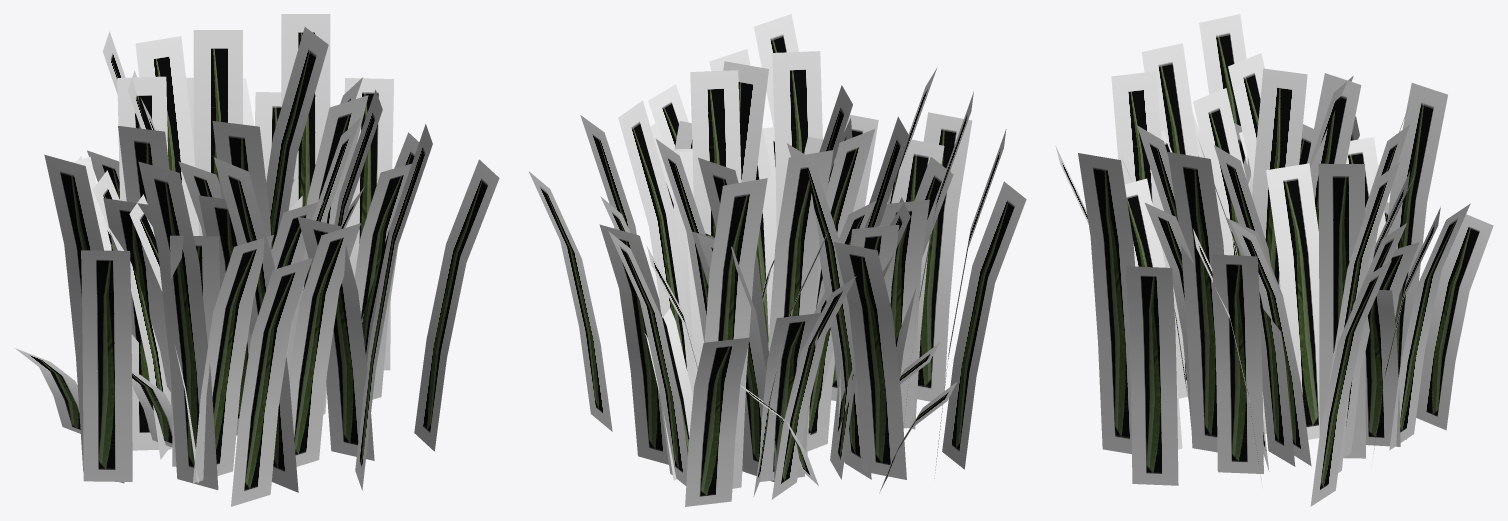
The model's file is Grass.obj.
3 renders of one model, left to right at view 1: azimuth 30°, elevation 25°; view 2: azimuth 150°, elevation 25°; view 3: azimuth 270°, elevation 25°, orthographic. The views are drawn at different scales.
Visible parts, largest first — view 1: pPlane24_lambert1_0, pPlane30_lambert1_0, pPlane40_lambert1_0, pPlane32_lambert1_0, pPlane9_lambert1_0, pPlane41_lambert1_0, pPlane59_lambert1_0, pPlane20_lambert1_0, pPlane25_lambert1_0, pPlane55_lambert1_0, pPlane46_lambert1_0, pPlane31_lambert1_0 (+24 smaller); view 2: pPlane48_lambert1_0, pPlane28_lambert1_0, pPlane42_lambert1_0, pPlane30_lambert1_0, pPlane40_lambert1_0, pPlane21_lambert1_0, pPlane46_lambert1_0, pPlane36_lambert1_0, pPlane23_lambert1_0, pPlane26_lambert1_0, pPlane43_lambert1_0, pPlane58_lambert1_0 (+30 smaller); view 3: pPlane37_lambert1_0, pPlane41_lambert1_0, pPlane7_lambert1_0, pPlane12_lambert1_0, pPlane19_lambert1_0, pPlane46_lambert1_0, pPlane42_lambert1_0, pPlane28_lambert1_0, pPlane44_lambert1_0, pPlane23_lambert1_0, pPlane39_lambert1_0, pPlane47_lambert1_0 (+19 smaller).
Part boxes in pixels (bbox=[...]): pPlane24_lambert1_0: bbox=[138, 161, 218, 489]; pPlane30_lambert1_0: bbox=[81, 250, 132, 481]; pPlane40_lambert1_0: bbox=[231, 258, 312, 506]; pPlane32_lambert1_0: bbox=[193, 235, 273, 483]; pPlane9_lambert1_0: bbox=[289, 223, 360, 466]; pPlane41_lambert1_0: bbox=[414, 159, 499, 451]; pPlane59_lambert1_0: bbox=[297, 216, 374, 460]; pPlane20_lambert1_0: bbox=[193, 30, 242, 235]; pPlane25_lambert1_0: bbox=[44, 154, 124, 483]; pPlane55_lambert1_0: bbox=[213, 157, 298, 492]; pPlane46_lambert1_0: bbox=[266, 27, 328, 248]; pPlane31_lambert1_0: bbox=[281, 14, 330, 210]; pPlane48_lambert1_0: bbox=[834, 242, 906, 479]; pPlane28_lambert1_0: bbox=[704, 178, 767, 488]; pPlane42_lambert1_0: bbox=[685, 337, 749, 506]; pPlane30_lambert1_0: bbox=[942, 181, 1026, 469]; pPlane40_lambert1_0: bbox=[917, 112, 972, 401]; pPlane21_lambert1_0: bbox=[768, 150, 833, 454]; pPlane46_lambert1_0: bbox=[618, 100, 695, 396]; pPlane36_lambert1_0: bbox=[599, 224, 668, 464]; pPlane23_lambert1_0: bbox=[690, 70, 741, 237]; pPlane26_lambert1_0: bbox=[772, 51, 822, 235]; pPlane43_lambert1_0: bbox=[786, 143, 871, 479]; pPlane58_lambert1_0: bbox=[880, 199, 929, 428]; pPlane37_lambert1_0: bbox=[1078, 153, 1135, 454]; pPlane41_lambert1_0: bbox=[1126, 266, 1178, 485]; pPlane7_lambert1_0: bbox=[1211, 254, 1263, 473]; pPlane12_lambert1_0: bbox=[1167, 152, 1224, 452]; pPlane19_lambert1_0: bbox=[1266, 163, 1319, 439]; pPlane46_lambert1_0: bbox=[1318, 163, 1365, 458]; pPlane42_lambert1_0: bbox=[1416, 214, 1493, 430]; pPlane28_lambert1_0: bbox=[1386, 83, 1447, 439]; pPlane44_lambert1_0: bbox=[1252, 68, 1307, 289]; pPlane23_lambert1_0: bbox=[1214, 145, 1295, 466]; pPlane39_lambert1_0: bbox=[1310, 260, 1391, 506]; pPlane47_lambert1_0: bbox=[1389, 203, 1470, 450].
Bounding box in the file's own units: 0.5506 × 0.4326 × 0.5325.
